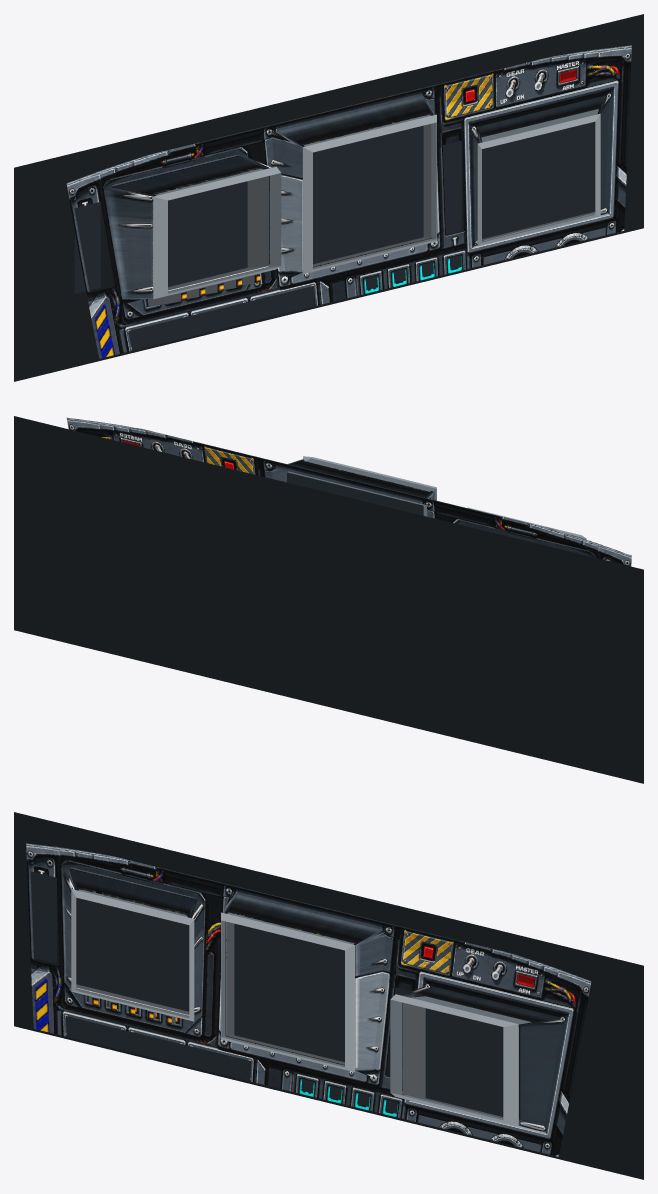
File: cockpit.glb
3 views of the same model, one above another, from view 1: azimuth 30°, elevation 25°; view 2: azimuth 150°, elevation 25°; view 3: azimuth 330°, elevation 25° (orthographic).
Visible parts, largest first — view 1: dashboard, dashboard_backing, display_radar, display_target, display_map, weapons, display_radar_outer_bevel, display_map_outer_bevel, display_target_outer_bevel, display_map_recess, throttle, display_map_inner_bevel (+4 smaller); view 2: dashboard_backing, dashboard, display_radar, display_radar_inner_bevel; view 3: dashboard, dashboard_backing, display_radar, display_map, display_target, weapons, display_target_outer_bevel, display_radar_outer_bevel, display_map_outer_bevel, display_target_recess, throttle, display_target_inner_bevel (+3 smaller).
Boxes of the visible parts, x1,y1,x2,y2 form: dashboard: (66, 45, 631, 358); dashboard_backing: (14, 14, 643, 381); display_radar: (313, 125, 423, 264); display_target: (482, 121, 595, 238); display_map: (168, 181, 247, 286); weapons: (128, 286, 313, 350); display_radar_outer_bevel: (303, 114, 436, 274); display_map_outer_bevel: (153, 166, 280, 299); display_target_outer_bevel: (477, 113, 600, 246); display_map_recess: (168, 176, 268, 290); throttle: (74, 202, 100, 293); display_map_inner_bevel: (155, 168, 281, 293); dashboard_backing: (14, 416, 643, 783); dashboard: (66, 417, 631, 566); display_radar: (287, 472, 423, 515); display_radar_inner_bevel: (287, 458, 436, 516); dashboard: (26, 843, 591, 1156); dashboard_backing: (14, 812, 643, 1179); display_radar: (234, 923, 344, 1062); display_map: (76, 897, 189, 1011); display_target: (425, 1008, 503, 1116); weapons: (66, 1016, 251, 1081); display_target_outer_bevel: (390, 994, 518, 1126); display_radar_outer_bevel: (221, 912, 354, 1072); display_map_outer_bevel: (71, 889, 194, 1021); display_target_recess: (403, 1002, 503, 1117); throttle: (30, 871, 56, 963); display_target_inner_bevel: (390, 996, 531, 1122).
Bounding box in the file's own units: 2.22 × 0.7205 × 0.28.
31 materials, 6 textured.
